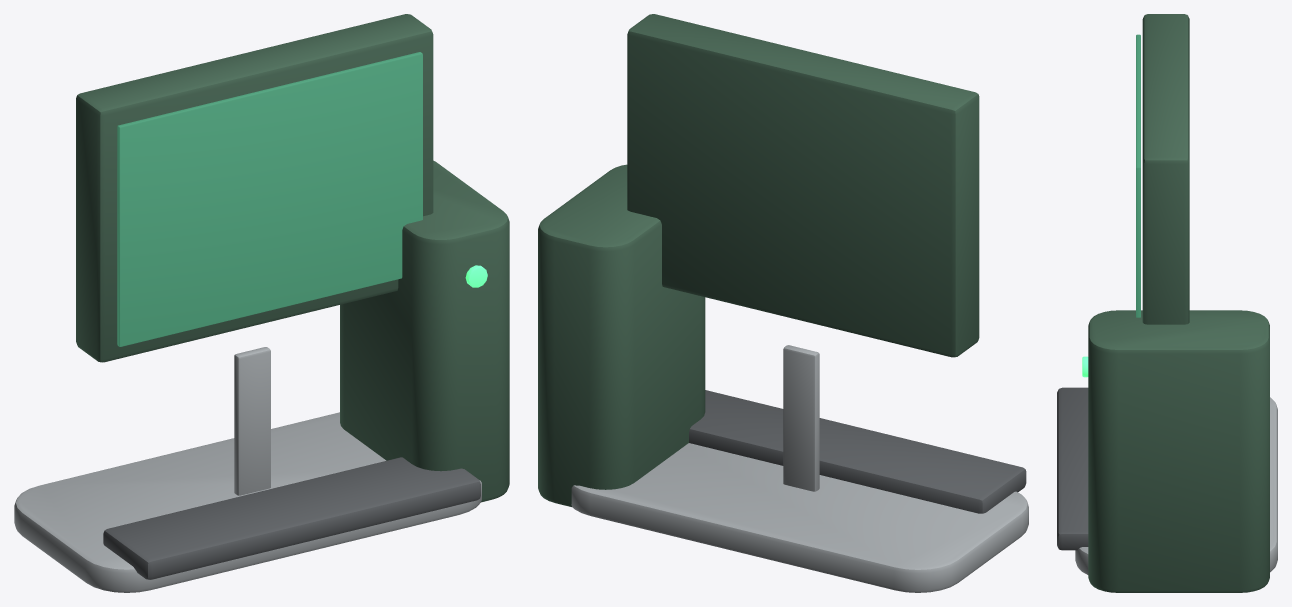
File: computer_public.glb
The picture shows the model from 3 angles, left to right: view 1: azimuth 30°, elevation 25°; view 2: azimuth 150°, elevation 25°; view 3: azimuth 270°, elevation 25°; orthographic projection. The views are drawn at different scales.
Visible parts, largest first — view 1: Computer_Monitor_1_Screen, Computer_Tower, Computer_Monitor_1_Back, Computer_Base, Computer_Keyboard, Computer_Monitor_1_Stem; view 2: Computer_Monitor_1_Back, Computer_Tower, Computer_Base, Computer_Keyboard, Computer_Monitor_1_Stem; view 3: Computer_Tower, Computer_Monitor_1_Back, Computer_Keyboard, Computer_Base, Computer_Monitor_1_Screen.
Boxes of the visible parts, <box> form: Computer_Monitor_1_Screen: <box>117,52,422,346</box>; Computer_Tower: <box>340,160,509,502</box>; Computer_Monitor_1_Back: <box>76,14,433,362</box>; Computer_Base: <box>14,412,481,592</box>; Computer_Keyboard: <box>103,457,480,579</box>; Computer_Monitor_1_Stem: <box>234,347,270,495</box>; Computer_Monitor_1_Back: <box>627,14,979,357</box>; Computer_Tower: <box>538,164,705,506</box>; Computer_Base: <box>571,443,1028,592</box>; Computer_Keyboard: <box>689,390,1026,513</box>; Computer_Monitor_1_Stem: <box>783,345,819,491</box>; Computer_Tower: <box>1088,310,1269,592</box>; Computer_Monitor_1_Back: <box>1142,14,1189,324</box>; Computer_Keyboard: <box>1057,387,1088,550</box>; Computer_Base: <box>1075,397,1277,574</box>; Computer_Monitor_1_Screen: <box>1136,34,1140,317</box>.
Size of what is drawn, in the model's own units: 0.504 by 0.5238 by 0.255.
